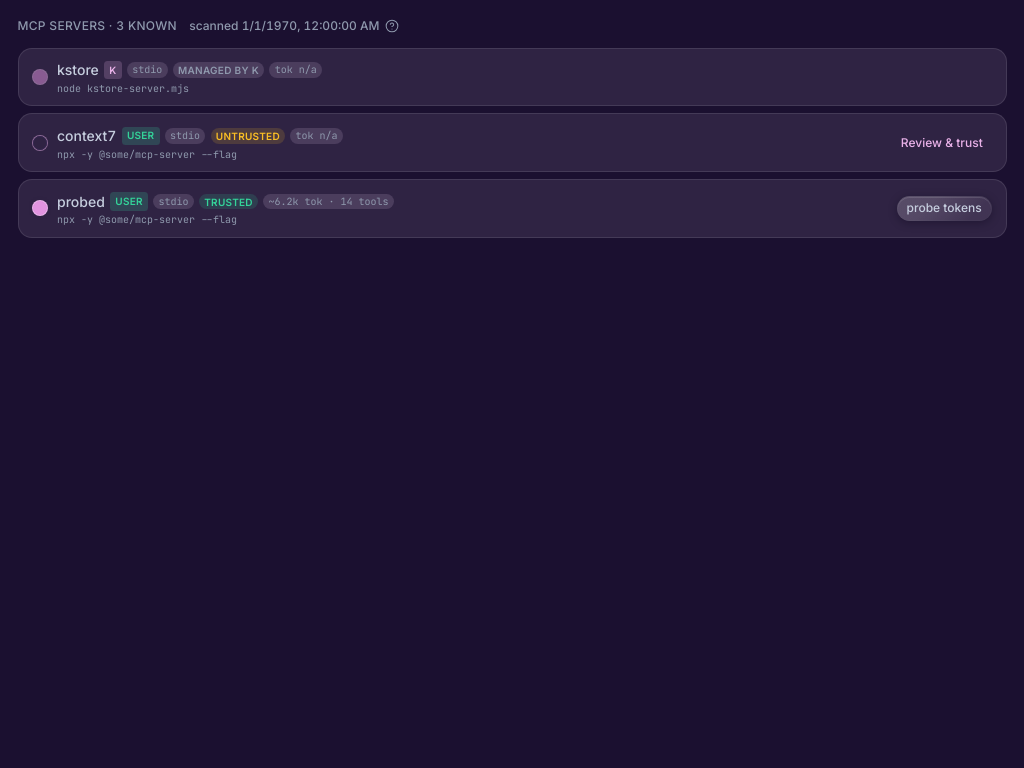
Test case: McpTab — trust gating › a trust failure surfaces inside the dialog, not swallowed
Step 1. Click the button with test id "mcp-review-user:context7" → (942, 143), box [892,130,992,155]
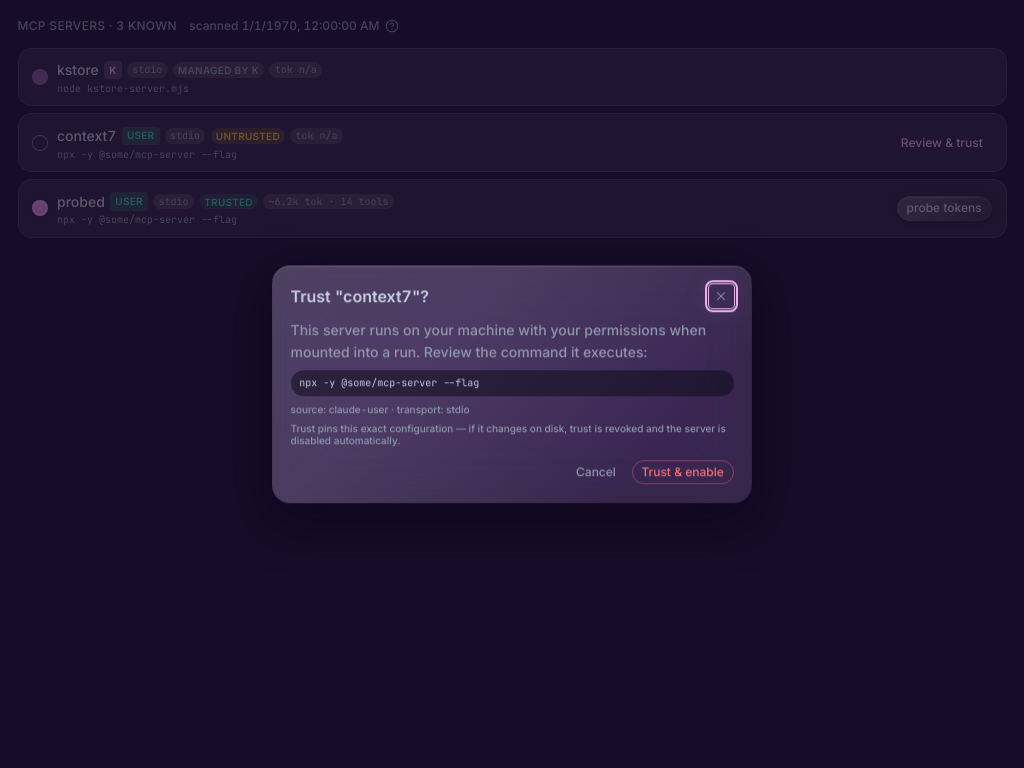
Step 2. Click the button with test id "mcp-trust-dialog-confirm" → (683, 472), box [632,460,734,484]
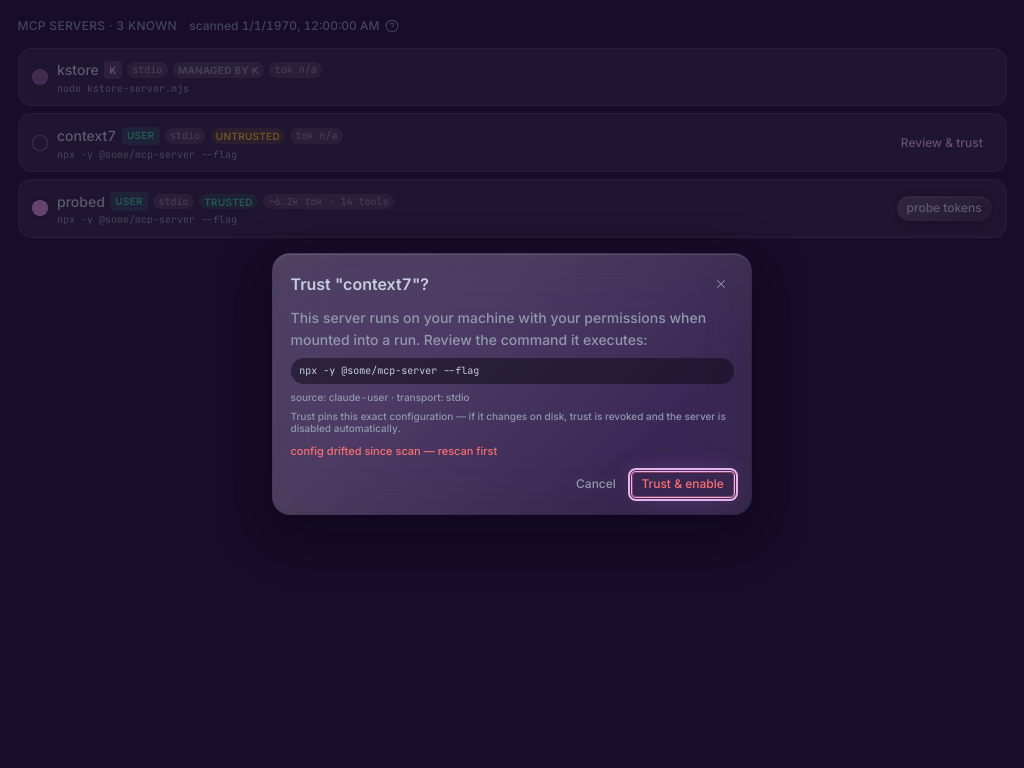
Result: the text with test id "mcp-trust-dialog-error" reads "config drifted since scan — rescan first" at [290,444,497,458]
